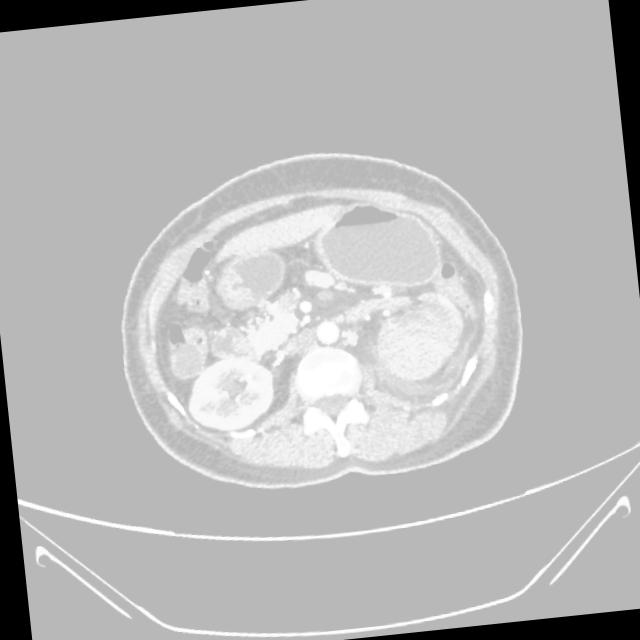TUMOR: (93, 180, 437, 388)
